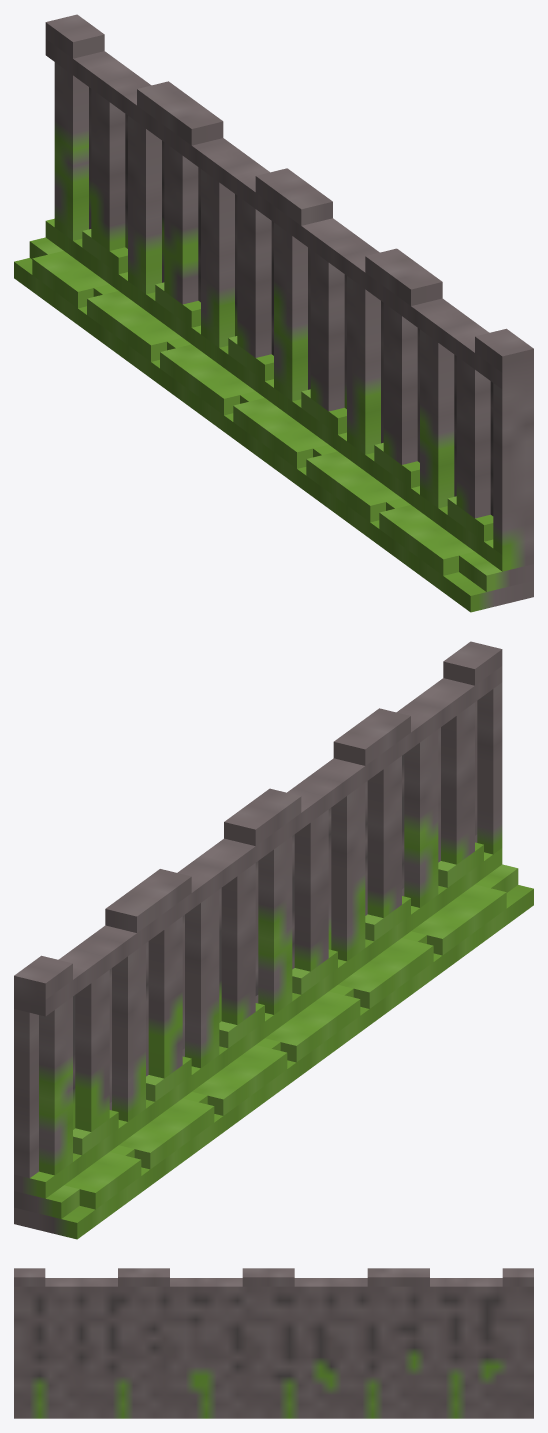
The model's file is Ruin_Fence_state_01.fbx.
3 renders of one model, top to bottom at view 1: azimuth 30°, elevation 25°; view 2: azimuth 150°, elevation 25°; view 3: azimuth 270°, elevation 25°, orthographic. The views are drawn at different scales.
Parts seen in each view (by area): view 1: Ruin_Fence_state_01; view 2: Ruin_Fence_state_01; view 3: Ruin_Fence_state_01.
Boxes of the visible parts, x1,y1,x2,y2 form: Ruin_Fence_state_01: [14, 14, 533, 612]; Ruin_Fence_state_01: [14, 641, 533, 1239]; Ruin_Fence_state_01: [14, 1268, 533, 1418].
Bounding box in the file's own units: 4 × 15 × 50.
1 material, 1 textured.
